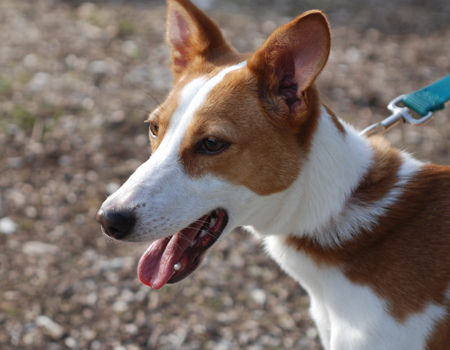dog: (97, 1, 450, 350)
